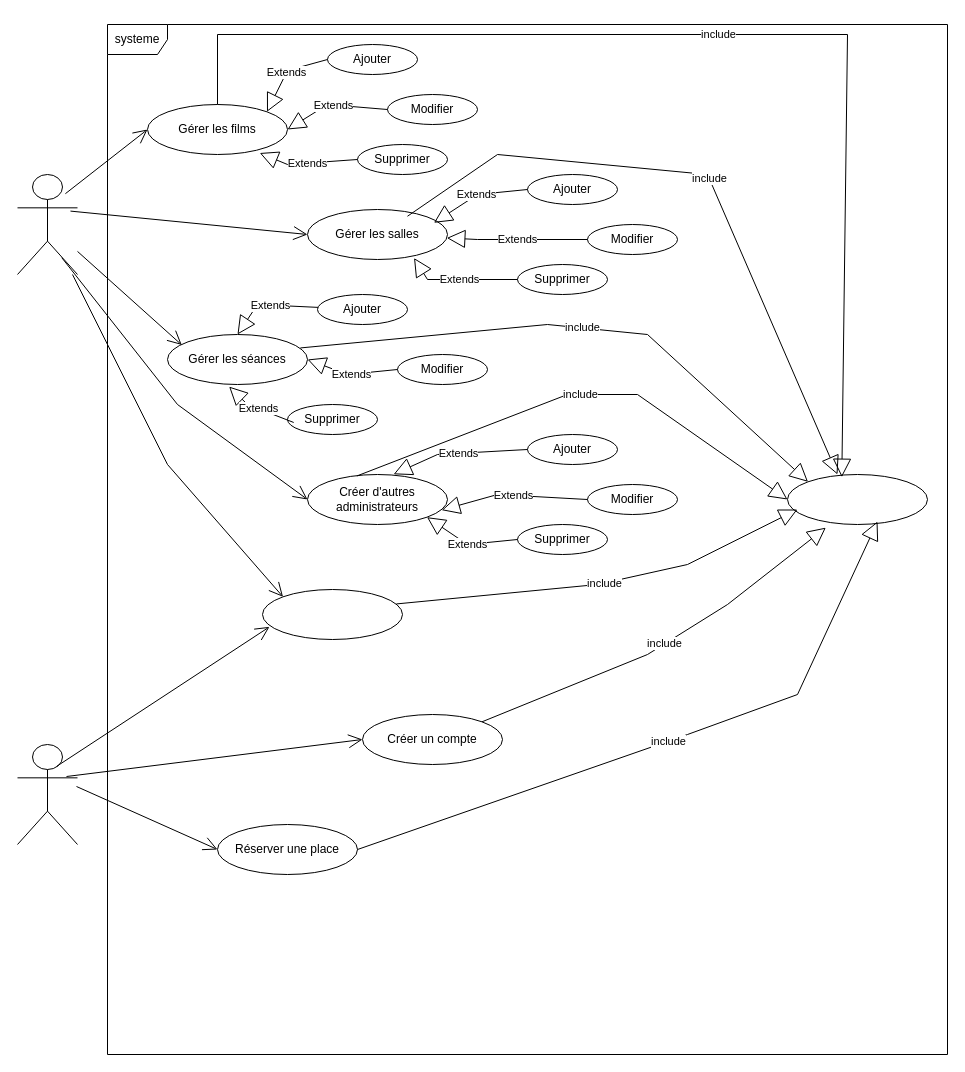
Some shapes in this 965 by 1072 pixel diagram are drawn without their labels. The shapes that lost their labels are listed below. From the top down, each one's centre as x and y in pixels, then its label:
At (47,224): "admin".
At (857,499): "Connexion avec authentification JWT".
At (332,614): "Voir les films et les séances disponibles".
At (47,794): "client".
